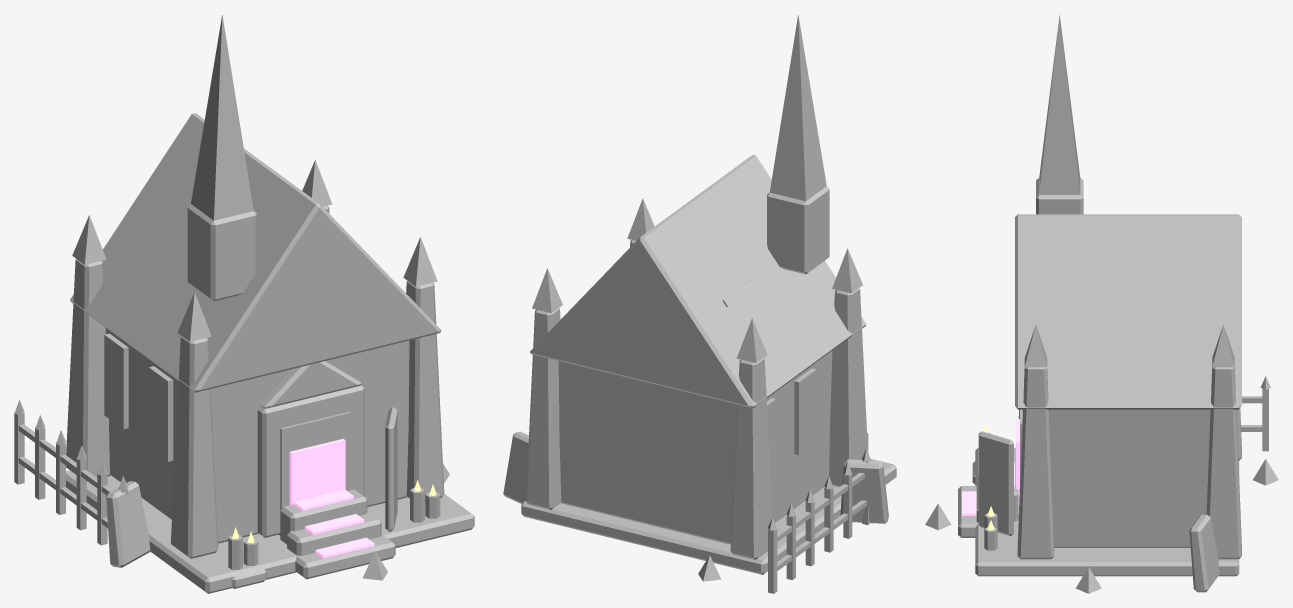
The model's file is d2_demon_crypt.gltf.
The picture shows the model from 3 angles, left to right: view 1: azimuth 30°, elevation 25°; view 2: azimuth 150°, elevation 25°; view 3: azimuth 270°, elevation 25°; orthographic projection. The views are drawn at different scales.
Visible parts, largest first — view 1: roof, walls, plinth, buttress_-1_0, buttress_-1_1, spire, door_frame, buttress_1_0, spire_base, door_glow, grave_1, door_dark (+21 smaller); view 2: roof, walls, plinth, buttress_-1_1, buttress_-1_0, spire, buttress_1_1, spire_base, grave_1, banner_0, grave_0, spike_-1_0 (+11 smaller); view 3: roof, walls, plinth, buttress_1_0, buttress_1_1, spire, door_leaf, grave_0, spire_base, spike_1_1, spike_1_0, step_0.
Part boxes in pixels (x1,y1,x2,y2): roof: (70,113,441,392); walls: (106,328,409,543); plinth: (66,470,474,593); buttress_-1_0: (170,336,218,558); buttress_-1_1: (66,259,110,481); spire: (191,15,253,220); door_frame: (257,385,364,537); buttress_1_0: (406,281,444,501); spire_base: (187,204,256,301); door_glow: (289,438,345,504); grave_1: (106,481,150,567); door_dark: (278,411,350,535); roof: (530,155,866,408); walls: (558,350,832,544); plinth: (521,458,896,574); buttress_-1_1: (730,358,772,559); buttress_-1_0: (829,288,867,487); spire: (769,15,826,201); buttress_1_1: (526,308,561,509); spire_base: (767,186,829,274); grave_1: (840,459,888,523); banner_0: (794,368,816,455); grave_0: (503,431,528,503); spike_-1_0: (832,248,862,293); roof: (1015,214,1241,409); walls: (1049,409,1210,547); plinth: (975,447,1239,576); buttress_1_0: (1017,367,1054,559); buttress_1_1: (1206,366,1241,559); spire: (1039,15,1080,194); door_leaf: (978,431,1013,535); grave_0: (1189,514,1219,592); spire_base: (1036,178,1083,214); spike_1_1: (1212,324,1234,367); spike_1_0: (1024,325,1047,367); step_0: (958,486,978,537).
Size of the model in its own units: 1.36 by 1.98 by 1.34.
